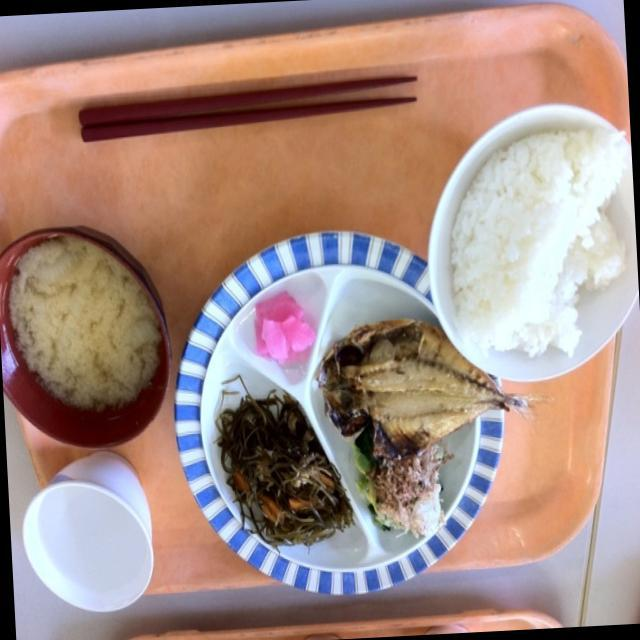Rice: (443, 126, 628, 362)
